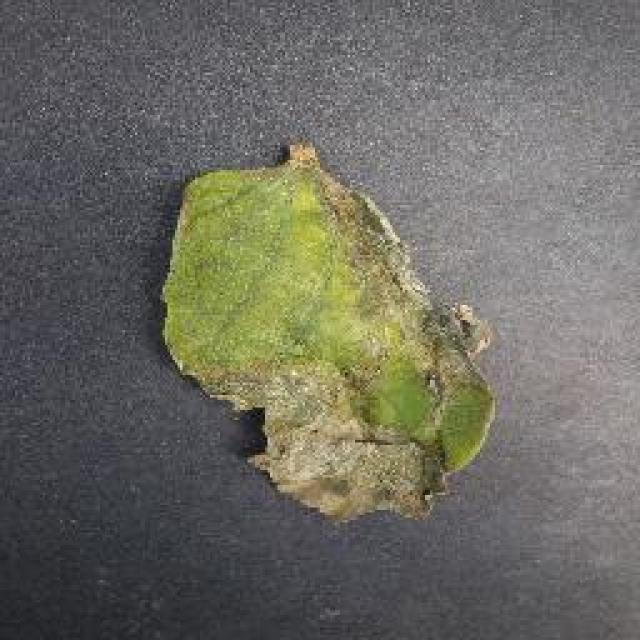Tomato Late Blight: (247, 278, 440, 584)
